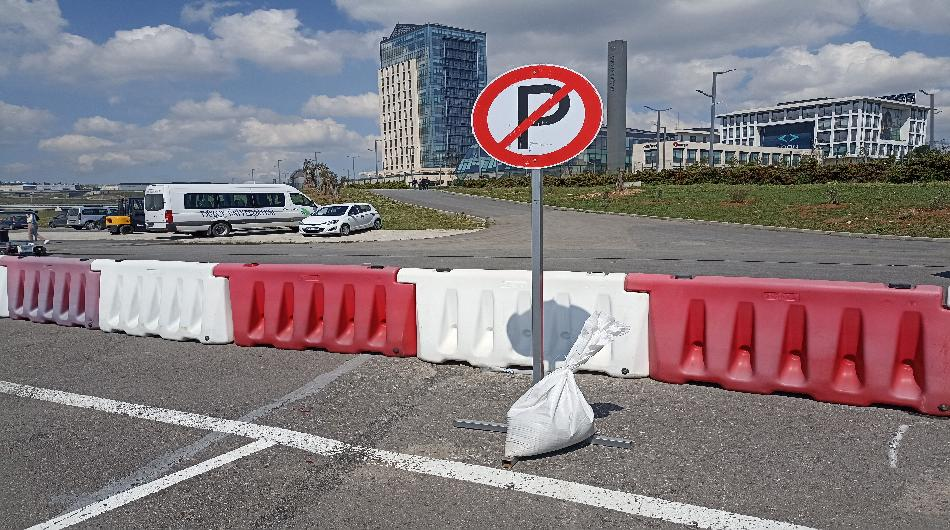park_yapilmaz_3: (468, 66, 610, 182)
